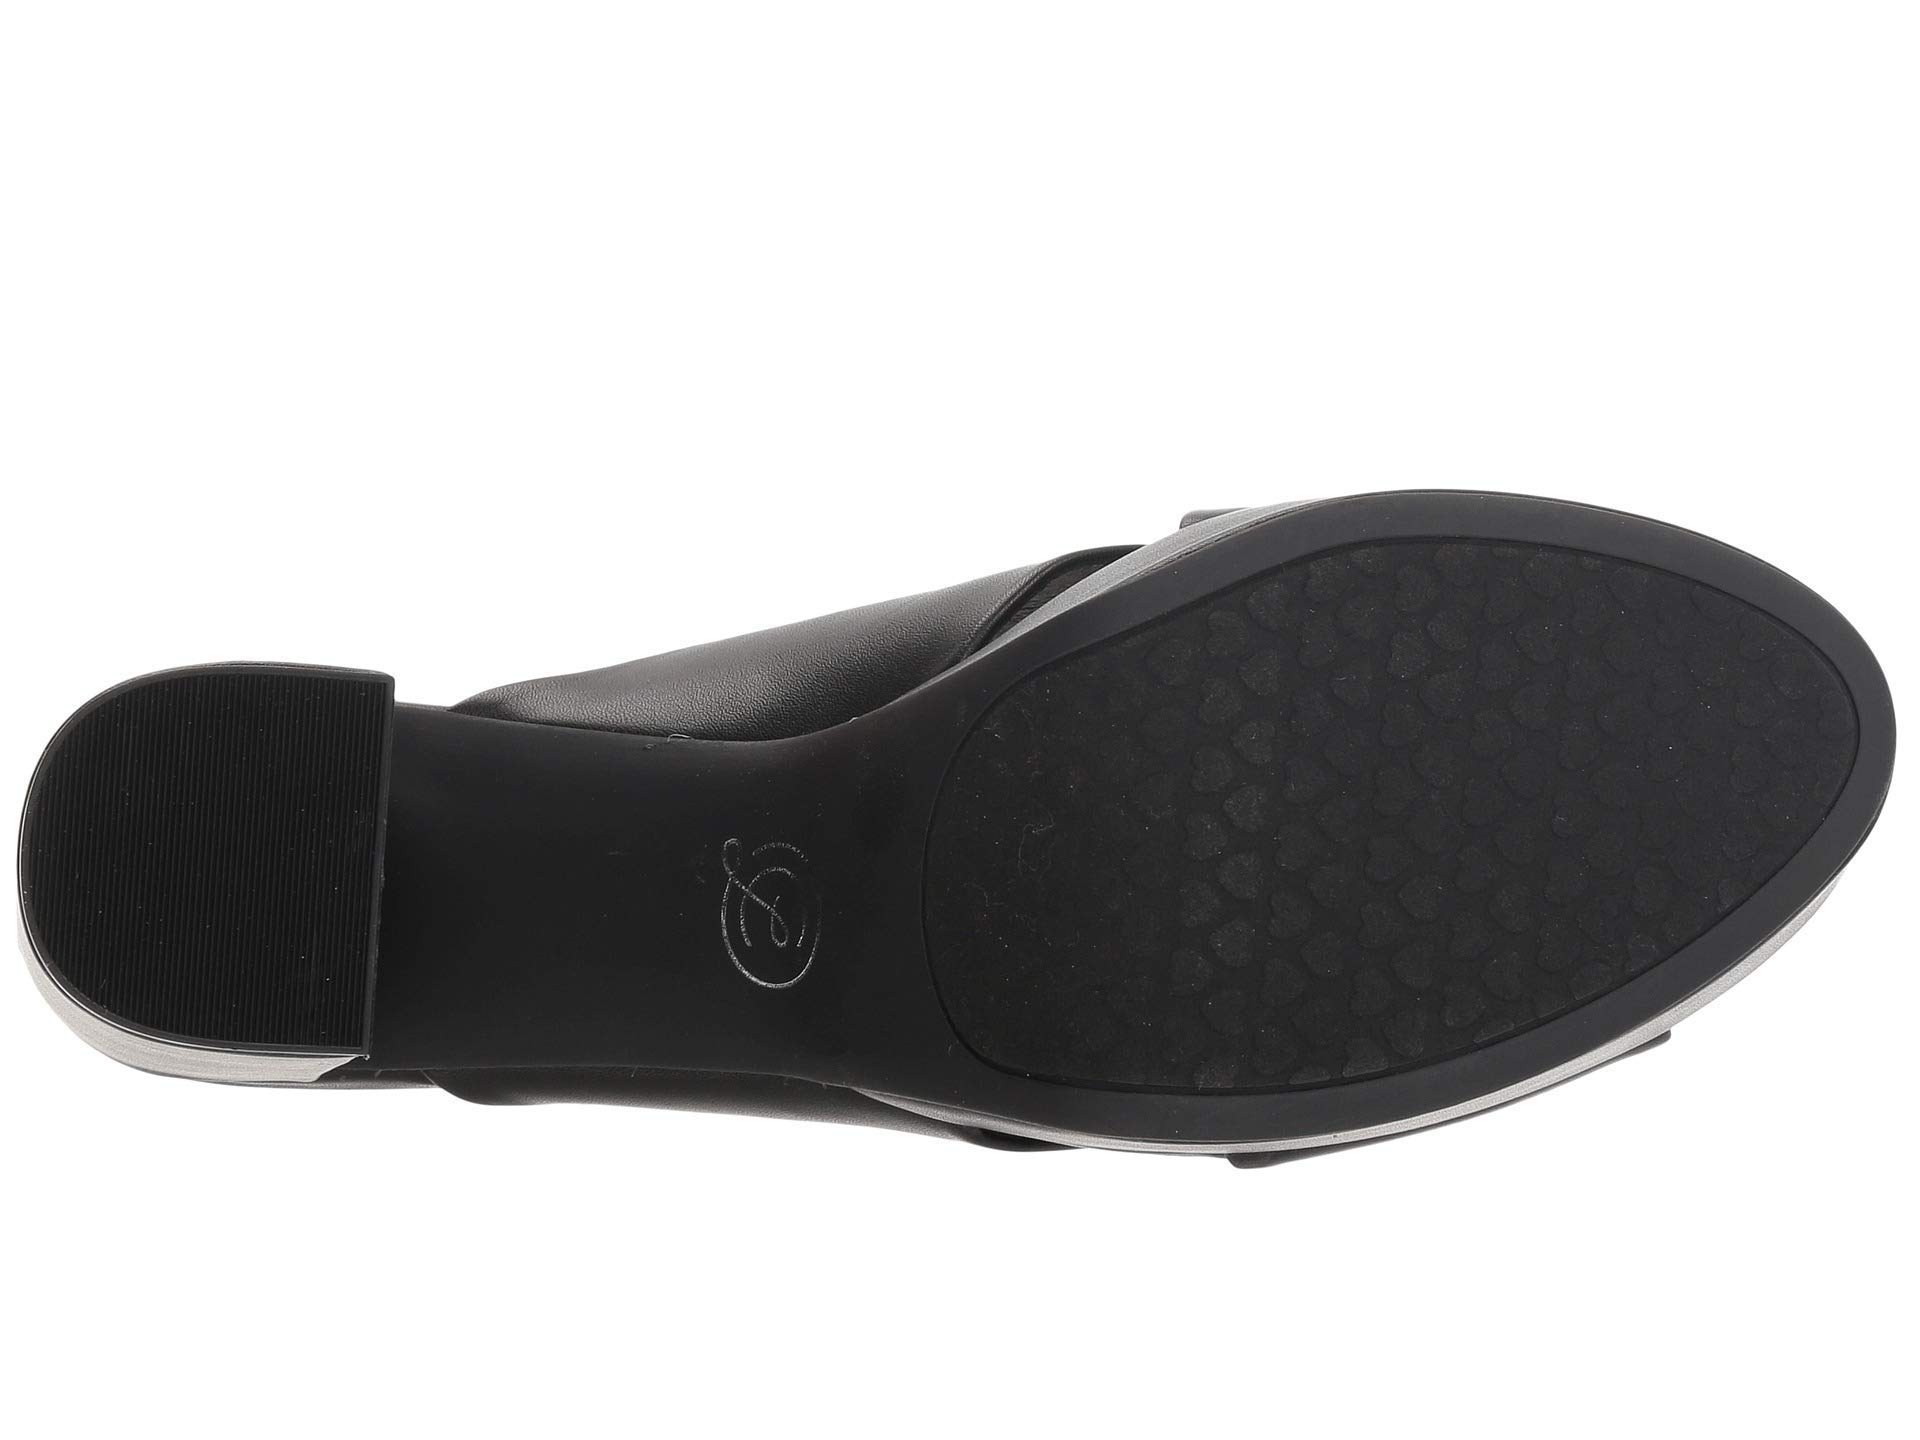circle: (674, 809, 869, 1006)
line: (118, 705, 290, 920)
other: (1256, 579, 1674, 953)
text: (674, 809, 869, 1006)
